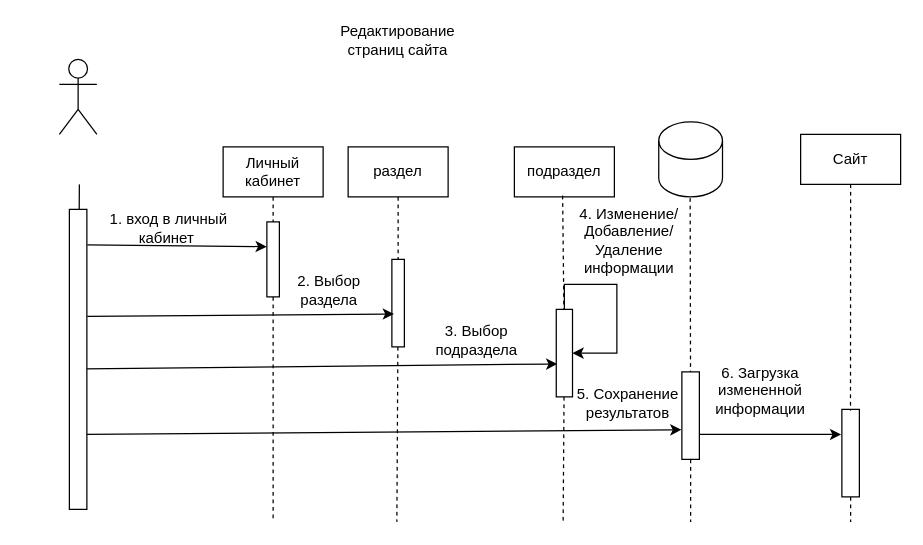
Image size: 923x545. Some labels were removed from this diagram. Here are the shapes that lost their labels. From the top down, the box of each, then its label:
(58, 58, 97, 134): Руководитель МО кураторов
(658, 121, 722, 197): гугл диск
